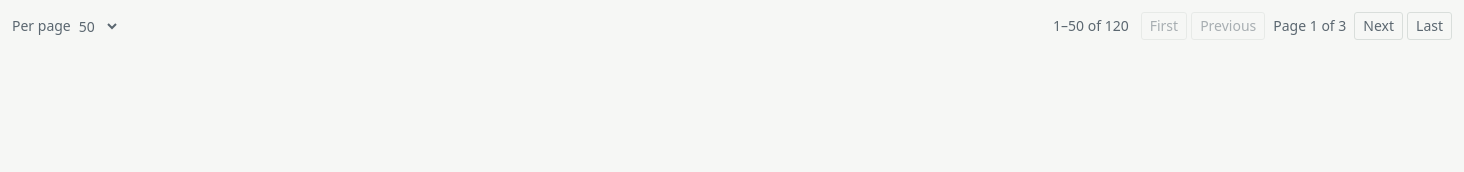
Test case: Pager › the sizes of oc3 on offer: 25, 50, 100
The width and height of the screenshot is (1464, 172).
Select "100" in the dropdown labelled "Per page": (97, 26) [75,16,120,36]
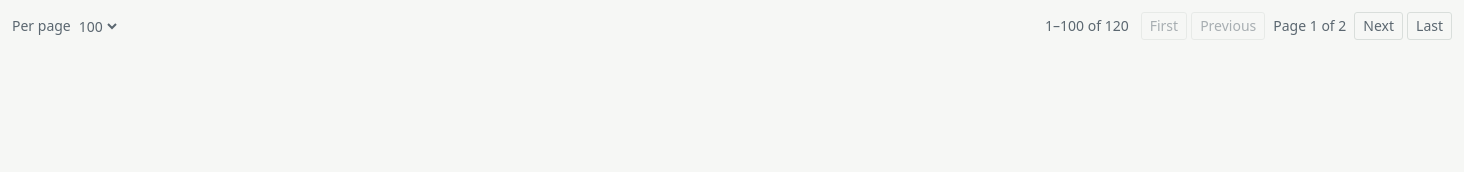
Expected: the text "Page 1 of 2" is shown, [1273,16,1346,35]
